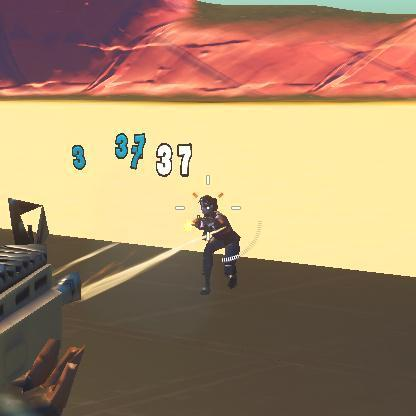person: (186, 194, 238, 282)
